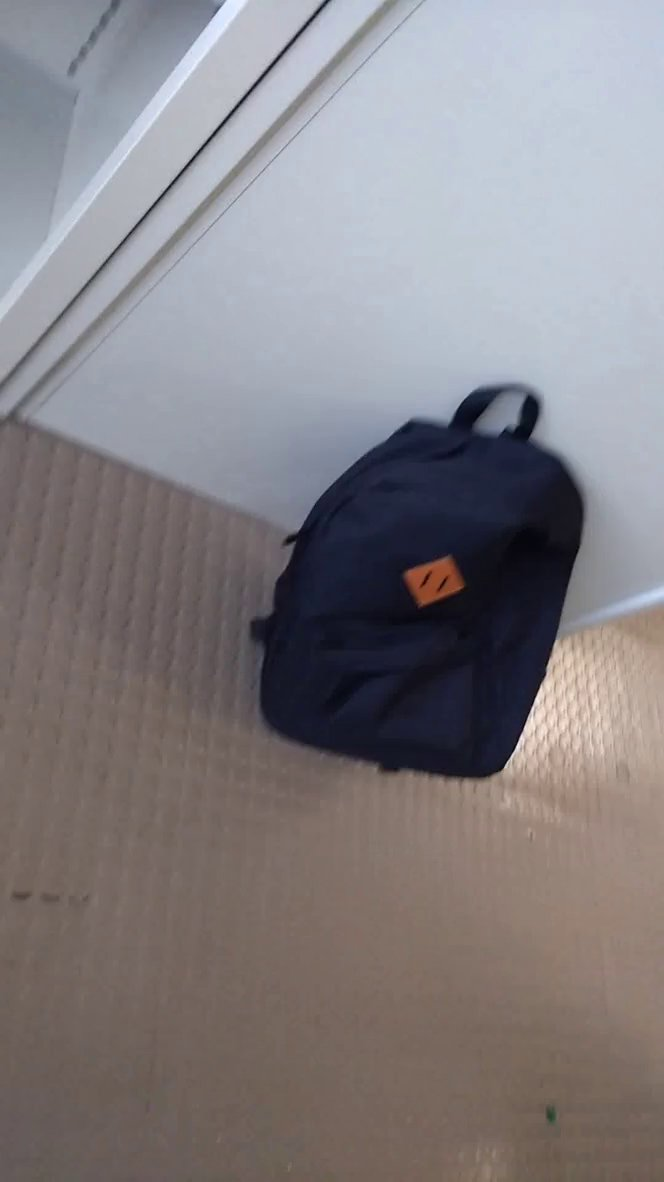bag: (223, 358, 601, 794)
